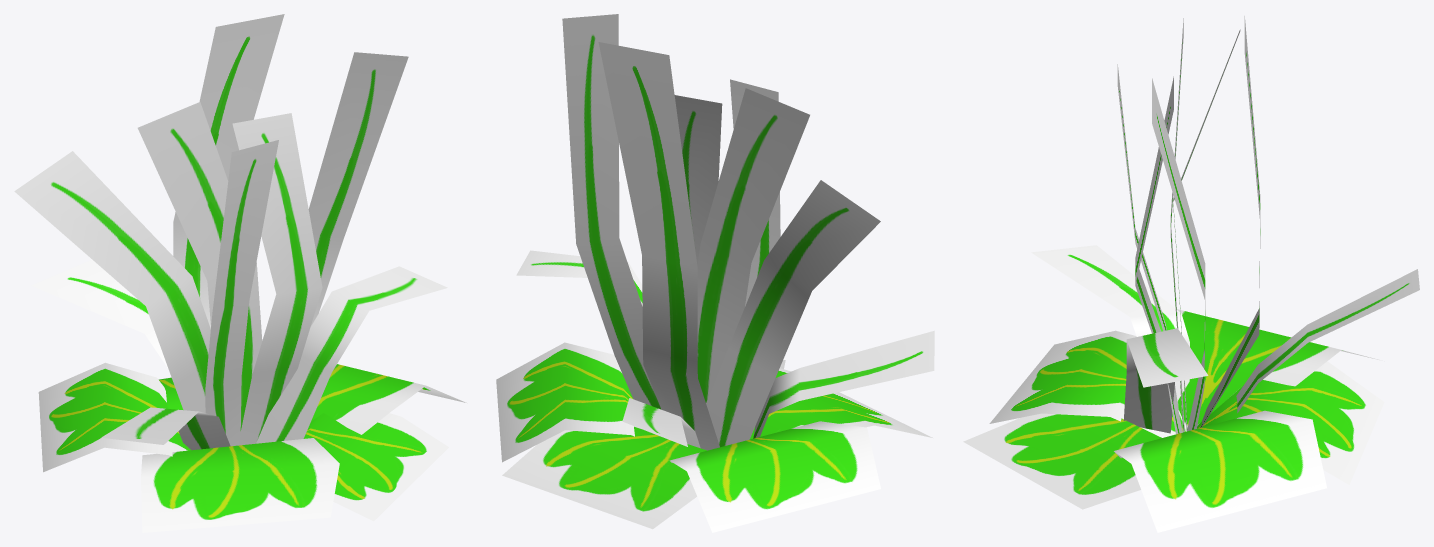
Rendered from SM_GRASS02.fbx.
The picture shows the model from 3 angles, left to right: view 1: azimuth 30°, elevation 25°; view 2: azimuth 150°, elevation 25°; view 3: azimuth 270°, elevation 25°; orthographic projection. The views are drawn at different scales.
Visible parts, largest first — view 1: SM_GRASS02; view 2: SM_GRASS02; view 3: SM_GRASS02.
Boxes of the visible parts, x1=… form: SM_GRASS02: x1=14, y1=14, x2=466, y2=532; SM_GRASS02: x1=496, y1=14, x2=934, y2=532; SM_GRASS02: x1=963, y1=16, x2=1419, y2=532.
Size of the model in its own units: 39.29 by 41.05 by 36.18.
